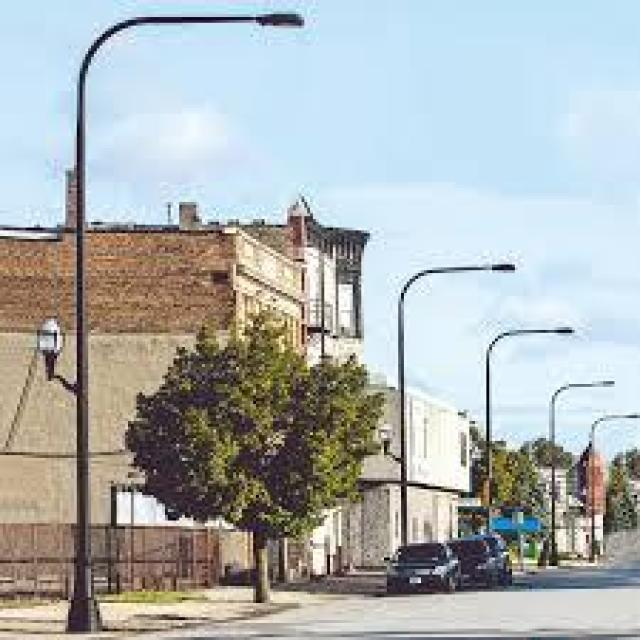pole: (52, 219, 119, 640)
